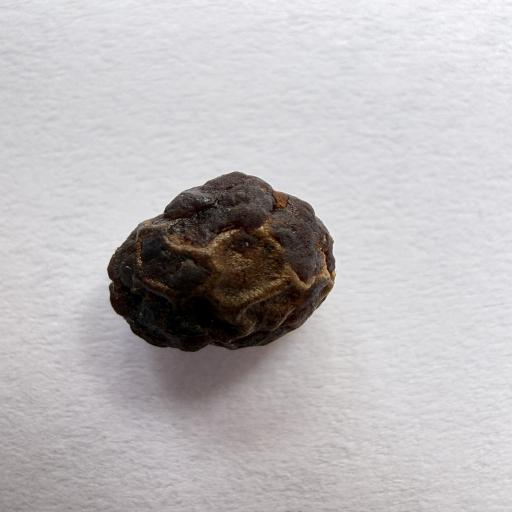Black_pepper: (100, 167, 341, 358)
